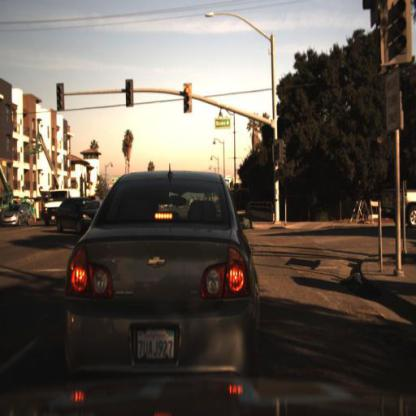car: (64, 170, 262, 392), (55, 195, 102, 240), (43, 187, 84, 230), (1, 201, 34, 232)
trafficLight: (383, 2, 414, 65), (184, 82, 194, 116), (56, 84, 65, 111), (277, 139, 282, 155)
trafficLight-Red: (388, 1, 406, 56), (274, 140, 285, 165), (126, 79, 135, 109)
truck: (42, 188, 79, 227)
